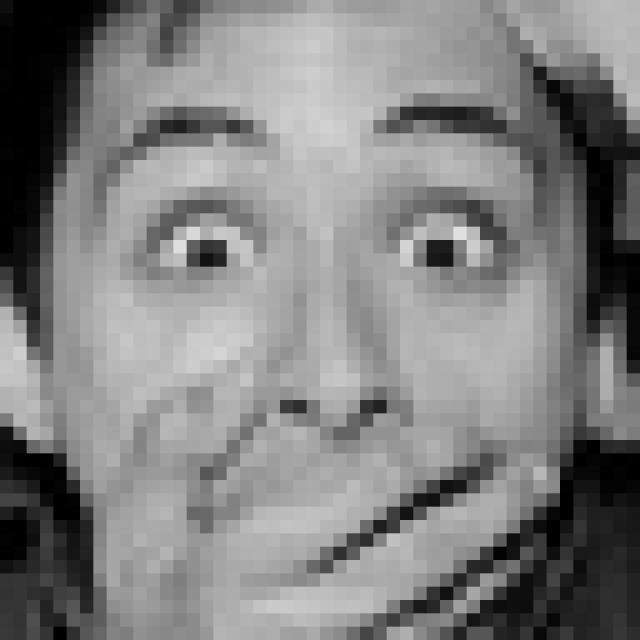fear: (92, 93, 559, 604)
